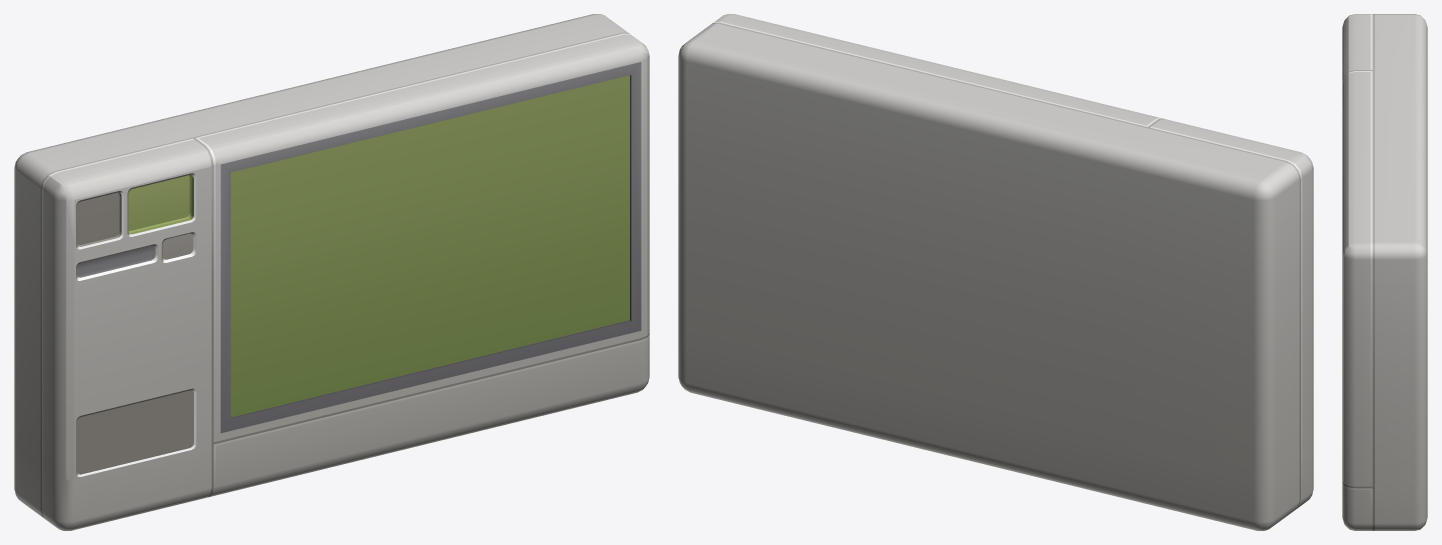
Rendered from CassettePlayer_V4(1).fbx.
3 views of the same model, side by side, from view 1: azimuth 30°, elevation 25°; view 2: azimuth 150°, elevation 25°; view 3: azimuth 270°, elevation 25° (orthographic). The views are drawn at different scales.
Parts seen in each view (by area): view 1: Cassette_Lid, Walkman_Base; view 2: Walkman_Base, Cassette_Lid; view 3: Walkman_Base, Cassette_Lid.
Boxes of the visible parts, bbox=[...] form: Cassette_Lid: bbox=[195, 33, 649, 442]; Walkman_Base: bbox=[14, 14, 649, 530]; Walkman_Base: bbox=[678, 22, 1313, 530]; Cassette_Lid: bbox=[713, 14, 1161, 126]; Walkman_Base: bbox=[1342, 14, 1427, 530]; Cassette_Lid: bbox=[1342, 71, 1372, 486].
Bounding box in the file's own units: 14.59 × 8.21 × 2.2.
